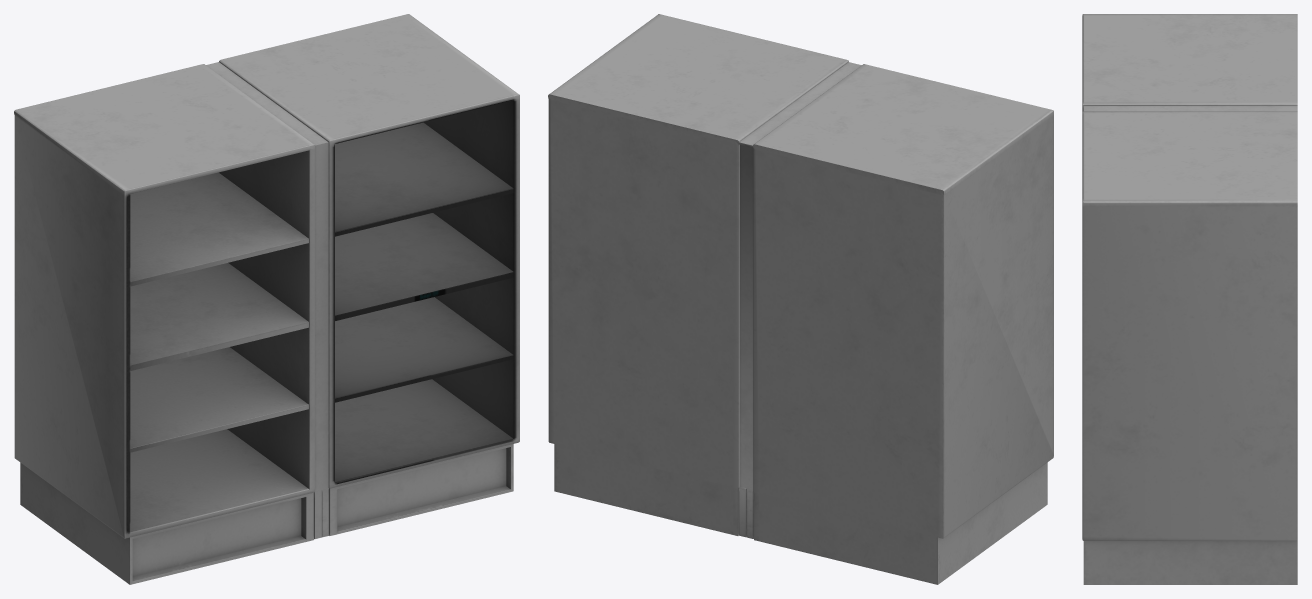
Rendered from kitchen.fbx.
3 views of the same model, side by side, from view 1: azimuth 30°, elevation 25°; view 2: azimuth 150°, elevation 25°; view 3: azimuth 270°, elevation 25° (orthographic). The views are drawn at different scales.
Visible parts, largest first — view 1: fridge.001; view 2: fridge.001; view 3: fridge.001.
Part boxes in pixels (bbox=[...]): fridge.001: bbox=[14, 14, 519, 584]; fridge.001: bbox=[548, 14, 1053, 584]; fridge.001: bbox=[1082, 14, 1297, 584].
Bounding box in the file's own units: 414 × 396 × 200.
